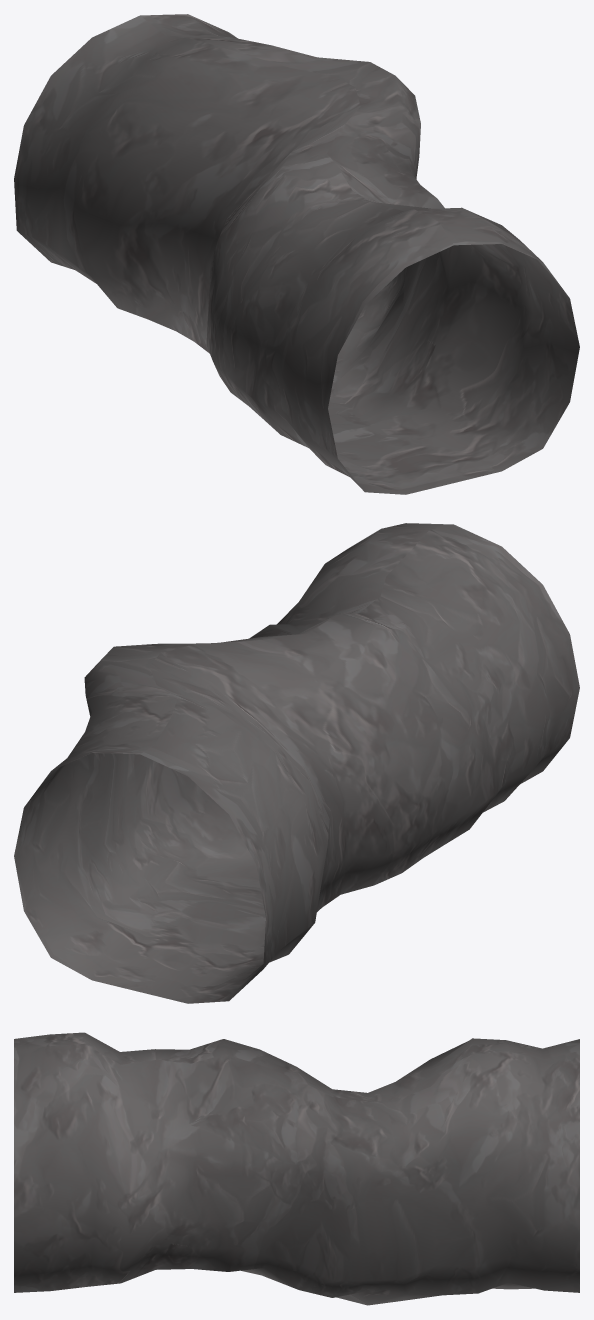
Rendered from MOD_NarrowTun.fbx.
3 views of the same model, one above another, from view 1: azimuth 30°, elevation 25°; view 2: azimuth 150°, elevation 25°; view 3: azimuth 270°, elevation 25° (orthographic). The views are drawn at different scales.
Parts seen in each view (by area): view 1: MOD_Narrow_Tun; view 2: MOD_Narrow_Tun; view 3: MOD_Narrow_Tun.
Part boxes in pixels (x1=…): MOD_Narrow_Tun: x1=14, y1=14, x2=579, y2=494; MOD_Narrow_Tun: x1=14, y1=523, x2=579, y2=1003; MOD_Narrow_Tun: x1=14, y1=1032, x2=579, y2=1305.
Size of the model in its own units: 4.46 by 3.65 by 8.48.
